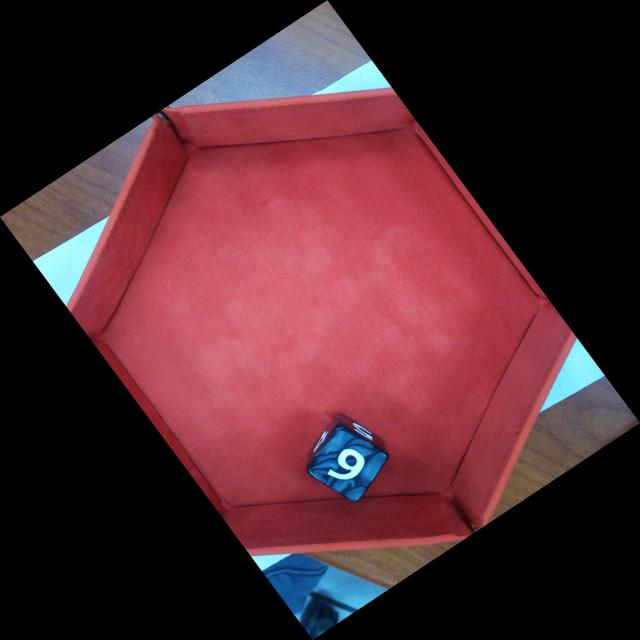dice: (306, 425, 391, 506)
